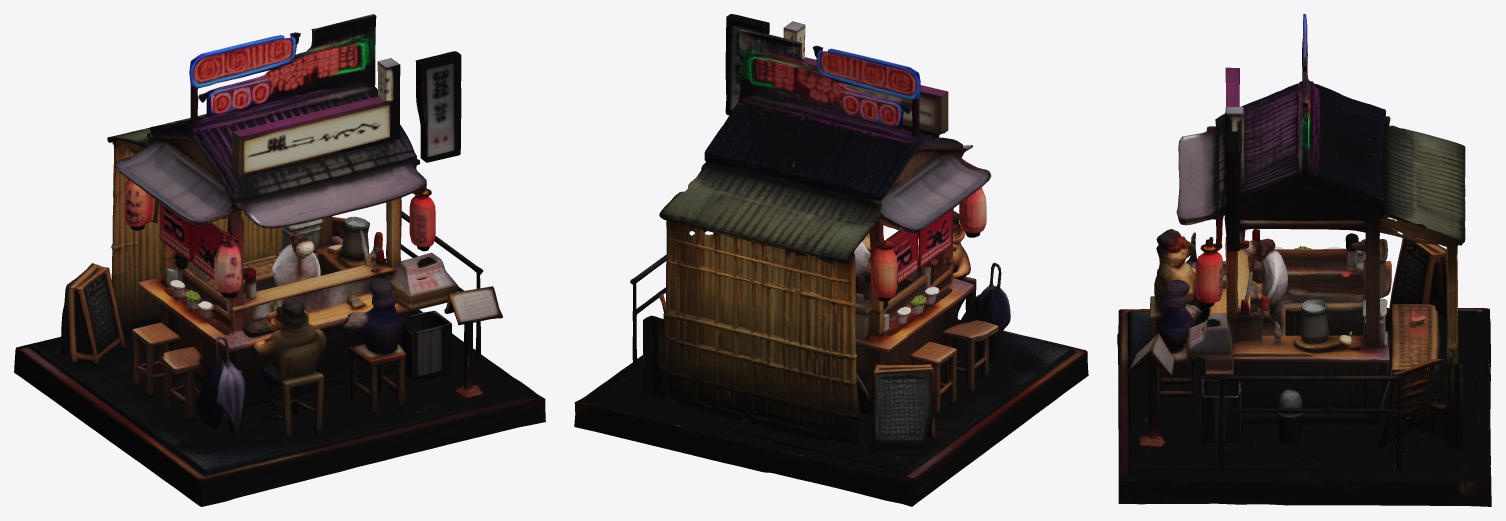
Rendered from night_ramen_stall.glb.
3 views of the same model, side by side, from view 1: azimuth 30°, elevation 25°; view 2: azimuth 150°, elevation 25°; view 3: azimuth 270°, elevation 25° (orthographic). The views are drawn at different scales.
Visible parts, largest first — view 1: world; view 2: world; view 3: world.
Part boxes in pixels (x1,y1,x2,y2): world: (14,14,545,506); world: (574,14,1088,506); world: (1117,14,1491,506).
Size of the model in its own units: 0.9961 by 0.9995 by 0.9195.
Materials: 1 (1 with a texture image).
